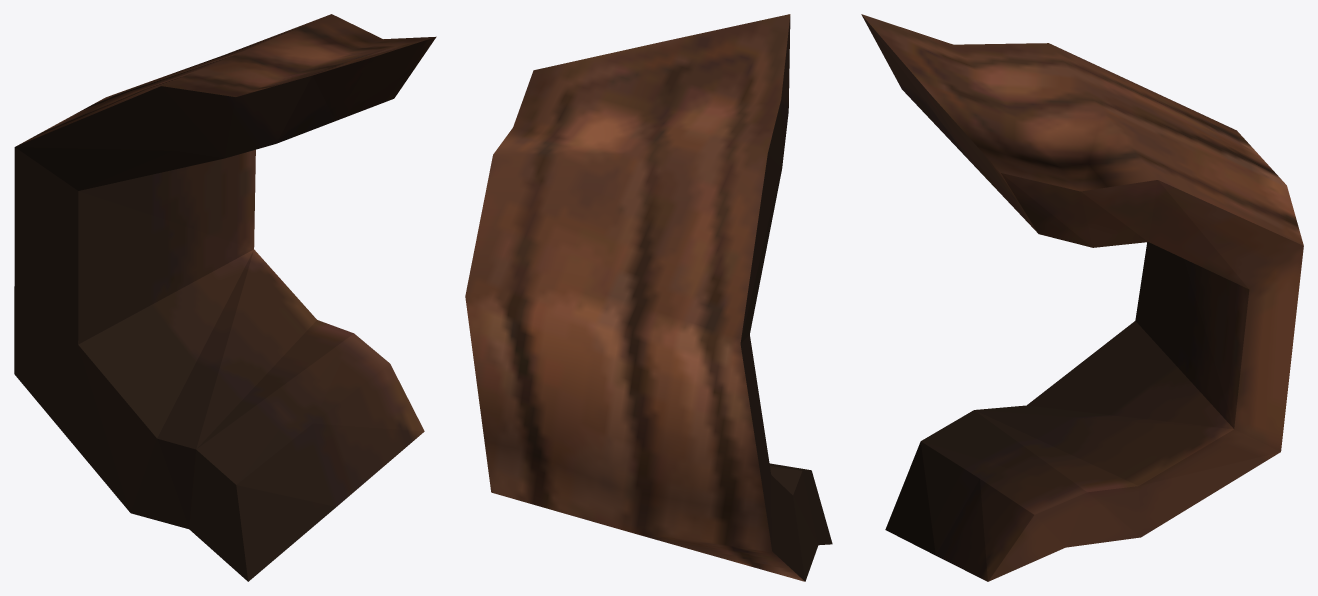
File: shoulder_r.fbx
3 views of the same model, side by side, from view 1: azimuth 30°, elevation 25°; view 2: azimuth 150°, elevation 25°; view 3: azimuth 270°, elevation 25° (orthographic). The views are drawn at different scales.
Visible parts, largest first — view 1: Standard_17; view 2: Standard_17; view 3: Standard_17.
Boxes of the visible parts, x1,y1,x2,y2 form: Standard_17: [14, 14, 436, 581]; Standard_17: [465, 14, 832, 581]; Standard_17: [861, 14, 1303, 581].
Bounding box in the file's own units: 0.1877 × 0.2736 × 0.2019.
